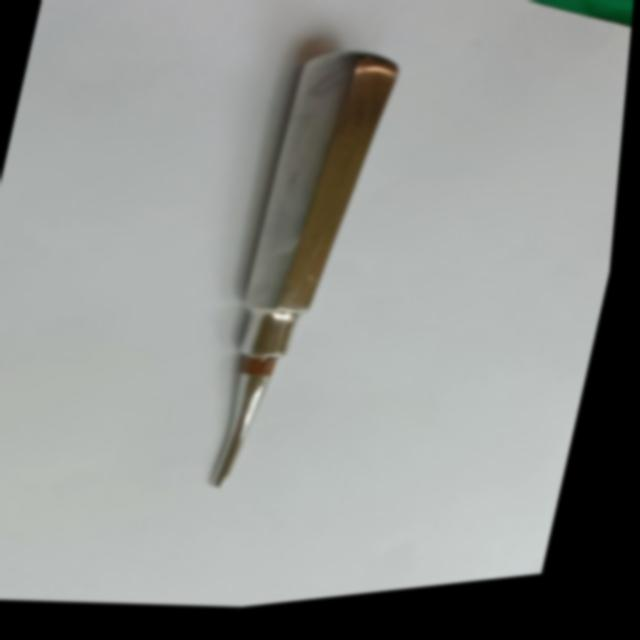Coupland1: (192, 35, 419, 511)
